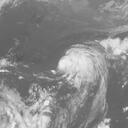cyclone: (57, 44, 105, 90)
